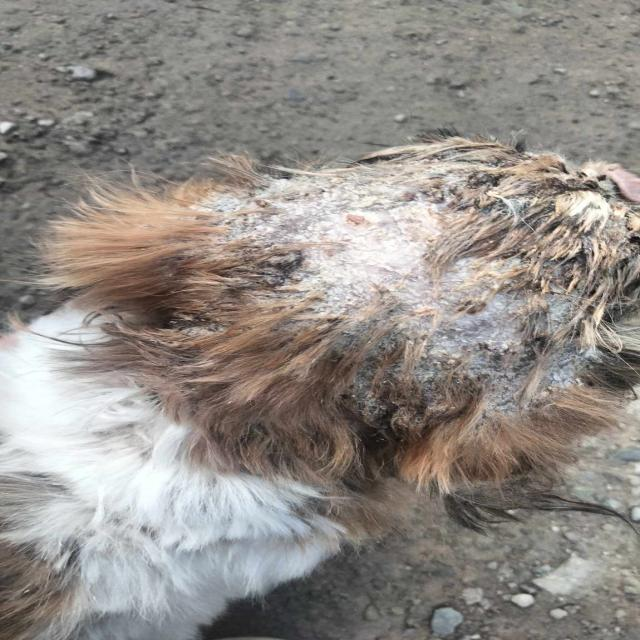demodicosis: (232, 172, 568, 360)
